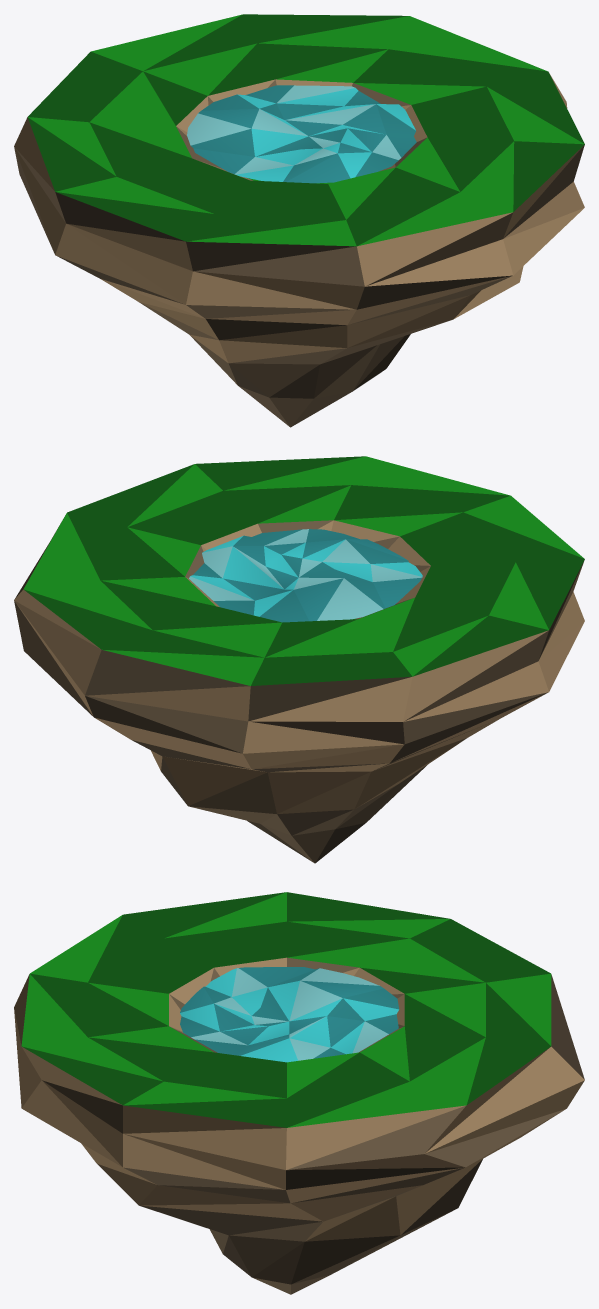
File: isla1.FBX
The picture shows the model from 3 angles, top to bottom: view 1: azimuth 30°, elevation 25°; view 2: azimuth 150°, elevation 25°; view 3: azimuth 270°, elevation 25°; orthographic projection. The views are drawn at different scales.
Visible parts, largest first — view 1: Cylinder001, Cylinder002; view 2: Cylinder001, Cylinder002; view 3: Cylinder001, Cylinder002.
Part boxes in pixels (left/top/right/bottom): Cylinder001: left=14, top=14, right=584, bottom=427; Cylinder002: left=187, top=85, right=416, bottom=183; Cylinder001: left=14, top=456, right=584, bottom=863; Cylinder002: left=189, top=529, right=422, bottom=622; Cylinder001: left=14, top=892, right=584, bottom=1294; Cylinder002: left=180, top=967, right=399, bottom=1062.
Bounding box in the file's own units: 539 × 306 × 533.
